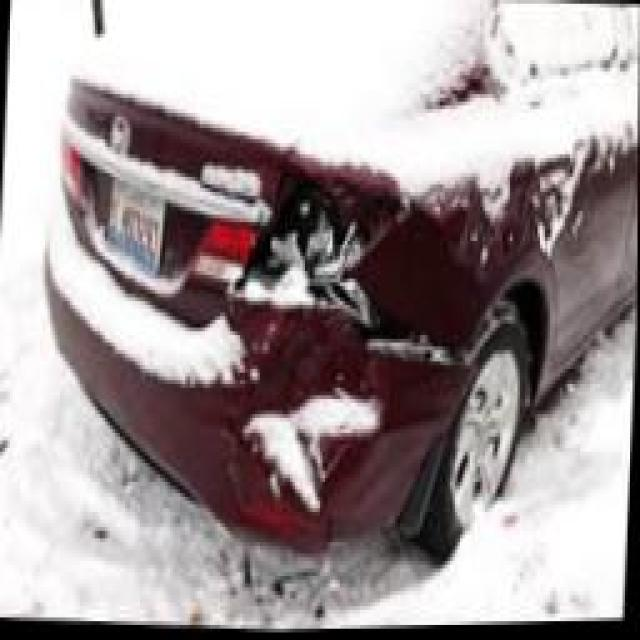Bumper: (210, 346, 392, 554)
Light: (205, 166, 391, 347)
